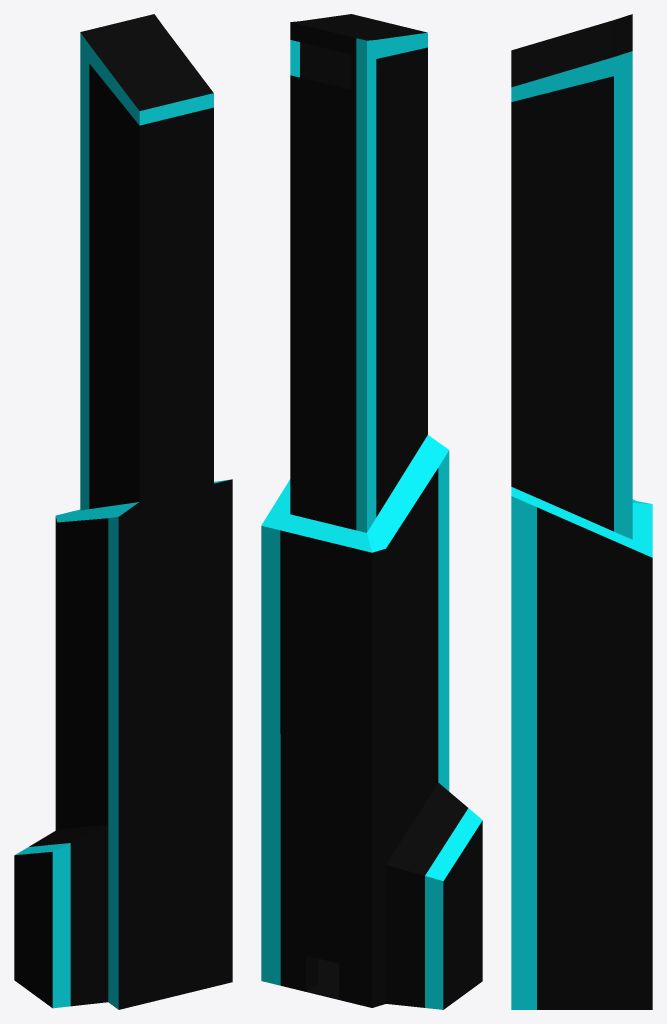
File: TronBuildingFixeeeed.fbx
3 renders of one model, left to right at view 1: azimuth 30°, elevation 25°; view 2: azimuth 150°, elevation 25°; view 3: azimuth 270°, elevation 25°, orthographic. The views are drawn at different scales.
Parts seen in each view (by area): view 1: Cube.144; view 2: Cube.144; view 3: Cube.144.
Part boxes in pixels (bbox=[...]): Cube.144: bbox=[14, 14, 232, 1009]; Cube.144: bbox=[261, 14, 482, 1009]; Cube.144: bbox=[511, 14, 652, 1009].
Size of the model in its own units: 1652 by 8998 by 1212.
